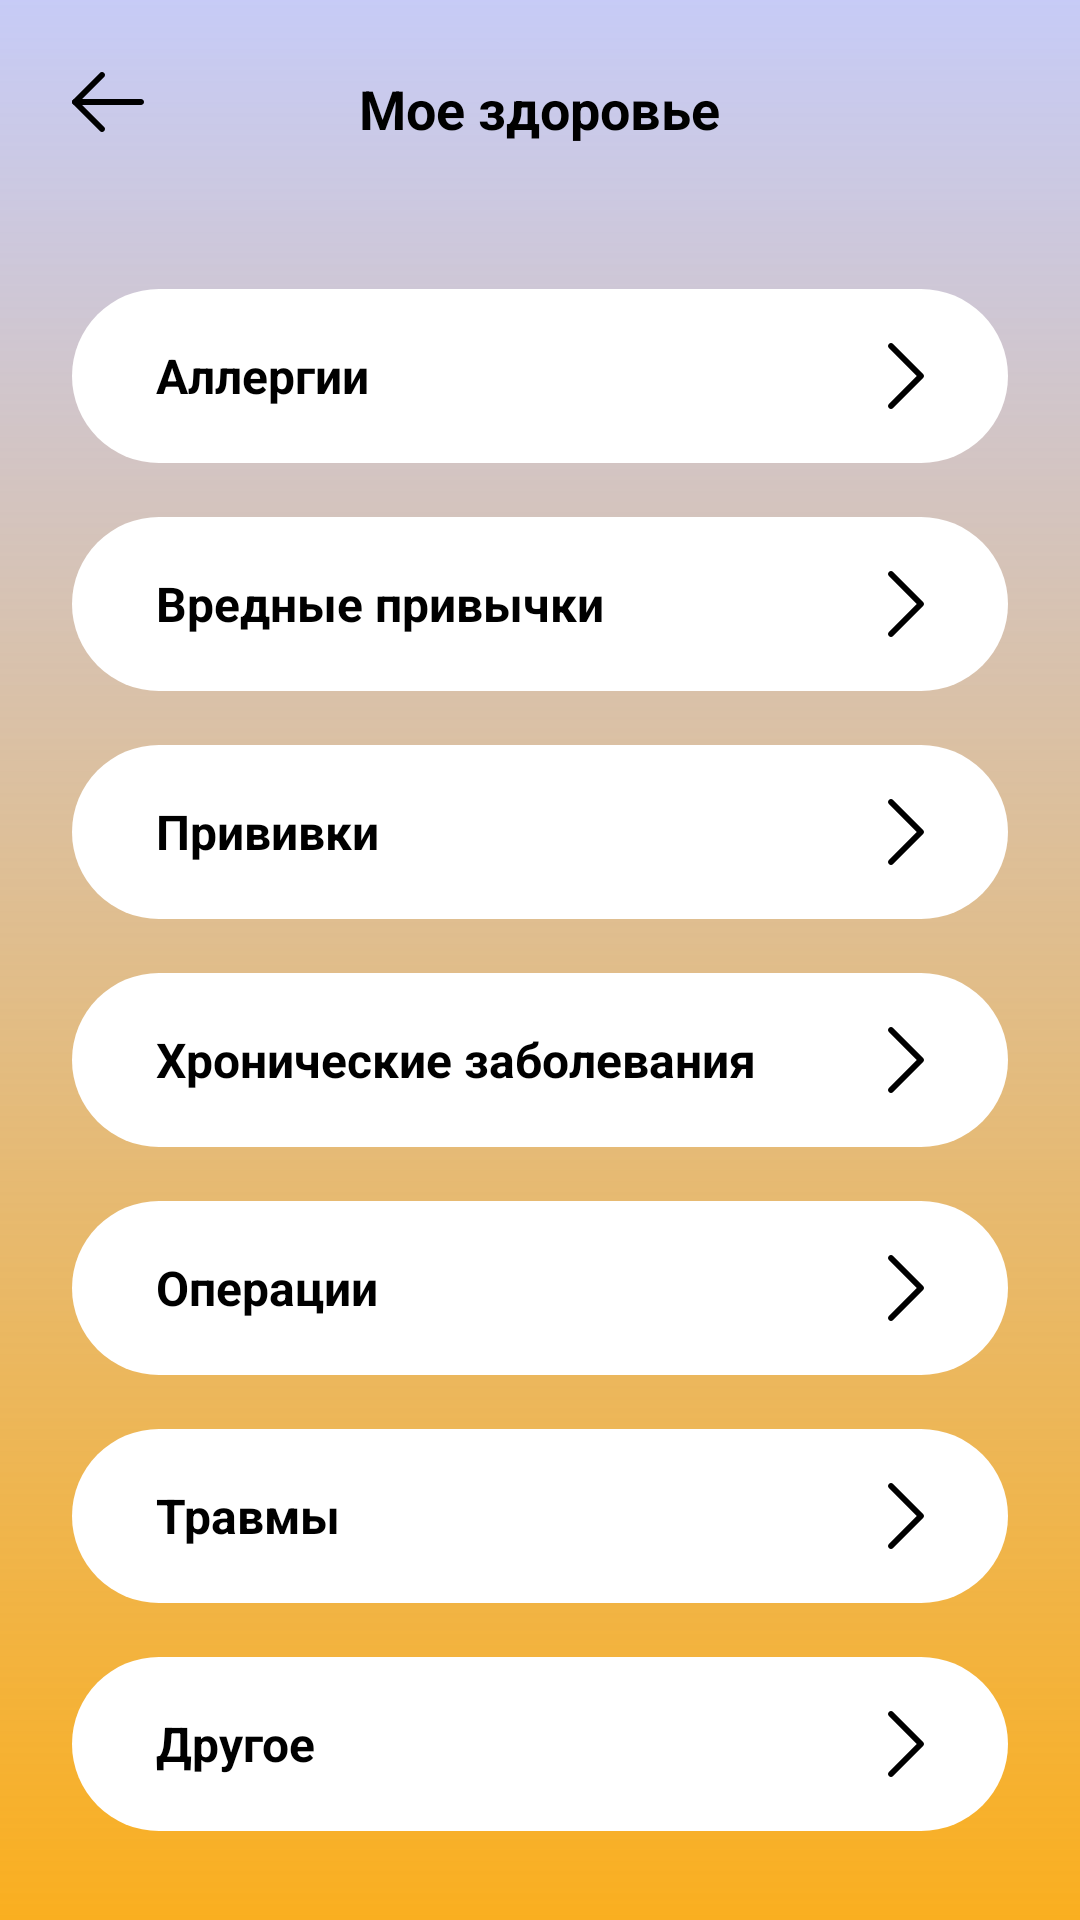

Icons on this 1080px x 1920px Android screen, each with its box as (x1, y1, x2, y2):
arraow right: (888, 343, 924, 409), (888, 571, 924, 637), (888, 799, 924, 865), (888, 1027, 924, 1093), (888, 1255, 924, 1321), (888, 1483, 924, 1549), (888, 1711, 924, 1777)
back: (72, 72, 144, 132)
